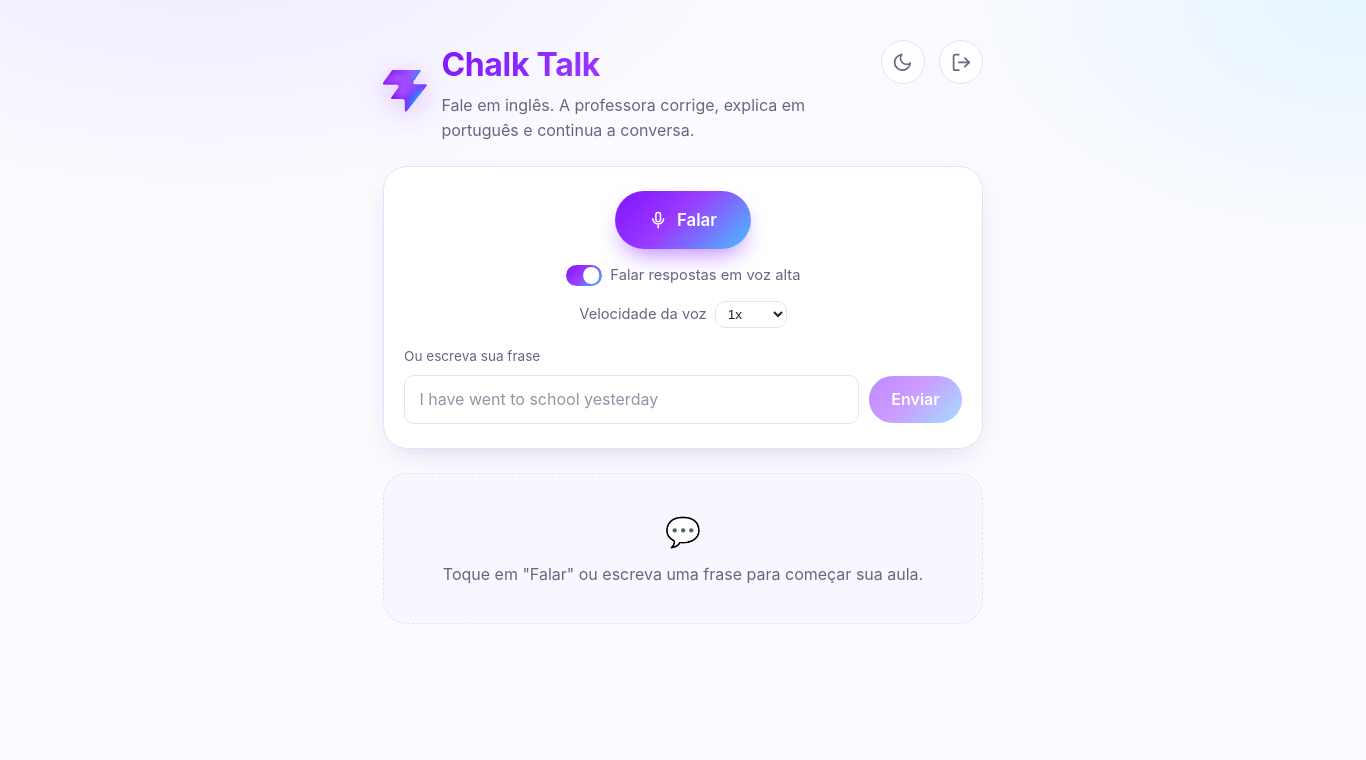
Test: App › renders a clean-sentence note when there are no issues
The image size is (1366, 760).
Type "I went to school yesterday." into the field labelled "Ou escreva sua frase" at [632, 399], box [404,375,859,424]
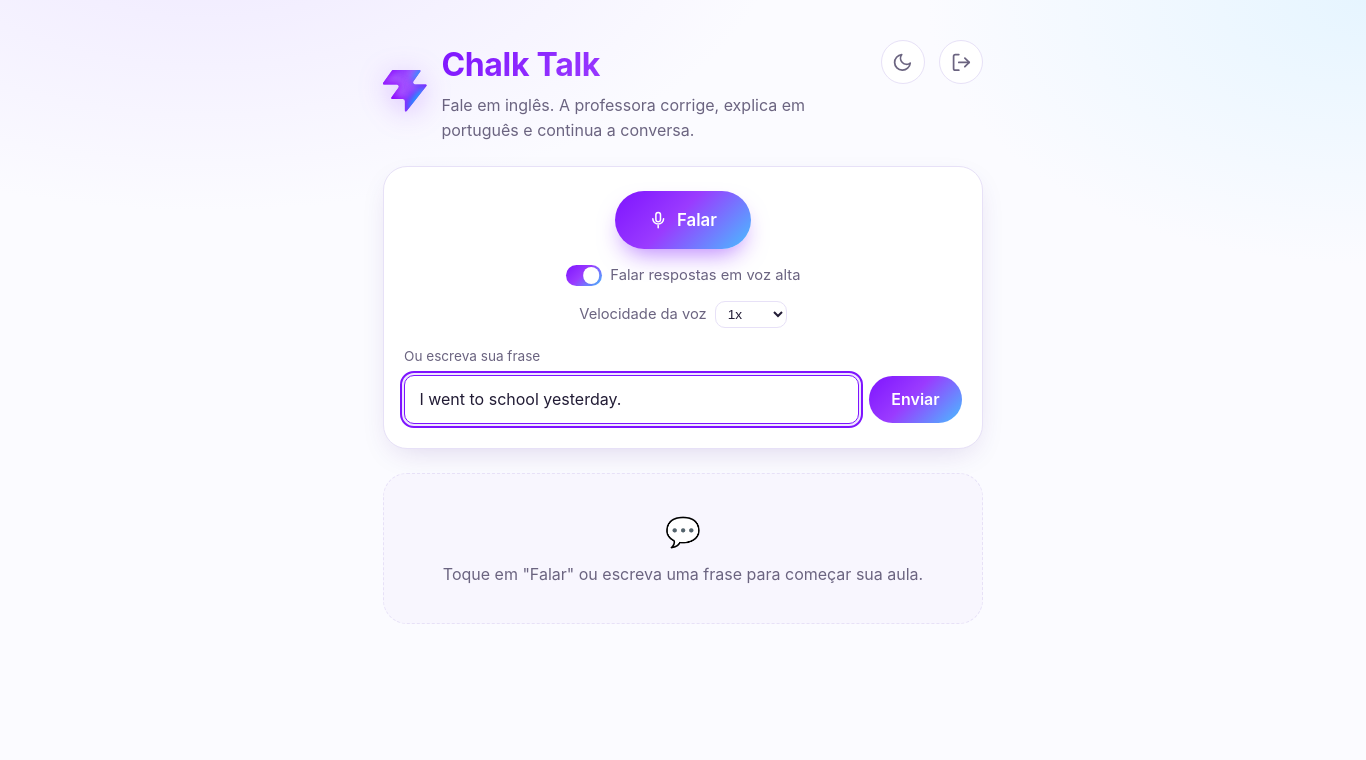
Click the button "Enviar" at [915, 399], box [869,376,962,423]
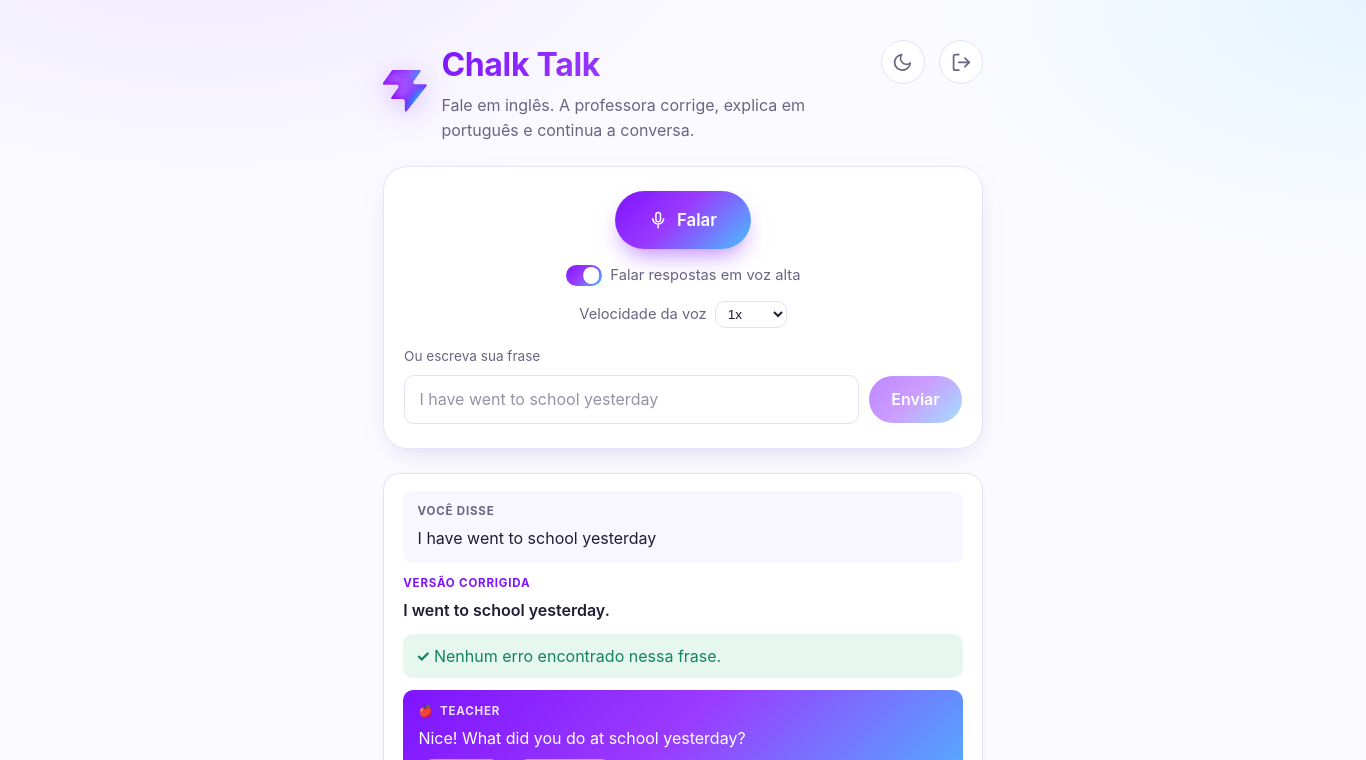
Expected: the text "Nenhum erro encontrado nessa frase." is shown, [403,634,963,678]
